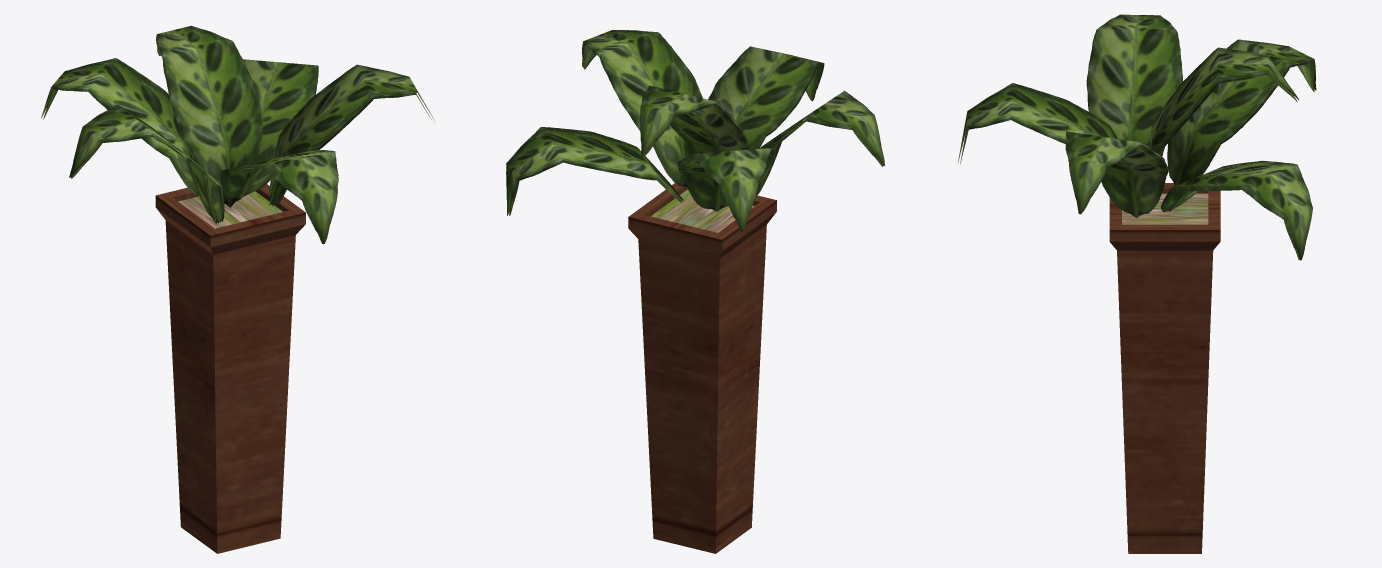
Rendered from Pot1.fbx.
3 renders of one model, left to right at view 1: azimuth 30°, elevation 25°; view 2: azimuth 150°, elevation 25°; view 3: azimuth 270°, elevation 25°, orthographic. The views are drawn at different scales.
Visible parts, largest first — view 1: Cube.007, Plane.002; view 2: Cube.007, Plane.002; view 3: Plane.002, Cube.007.
Part boxes in pixels (box(x1,y1,x2,y2)): Cube.007: box(155, 184, 305, 553); Plane.002: box(41, 25, 434, 244); Cube.007: box(628, 183, 776, 553); Plane.002: box(506, 30, 884, 232); Plane.002: box(957, 14, 1316, 260); Cube.007: box(1109, 183, 1220, 553).
Size of the model in its own units: 168 by 204 by 162.
